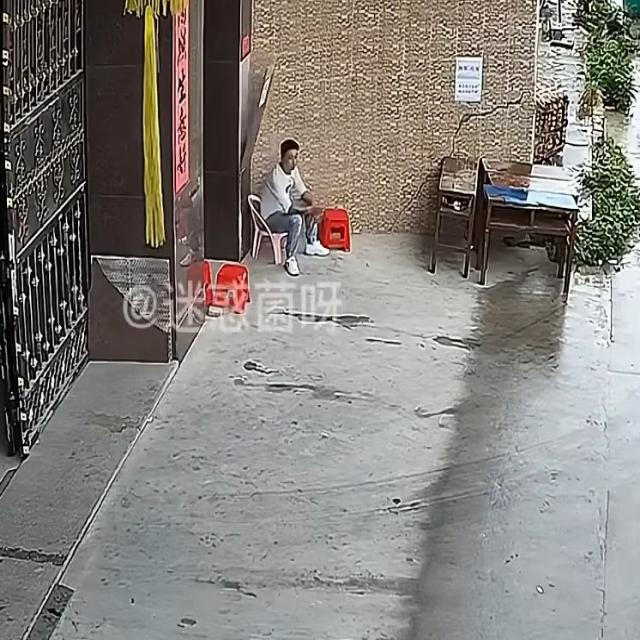sitting: (260, 140, 329, 275)
